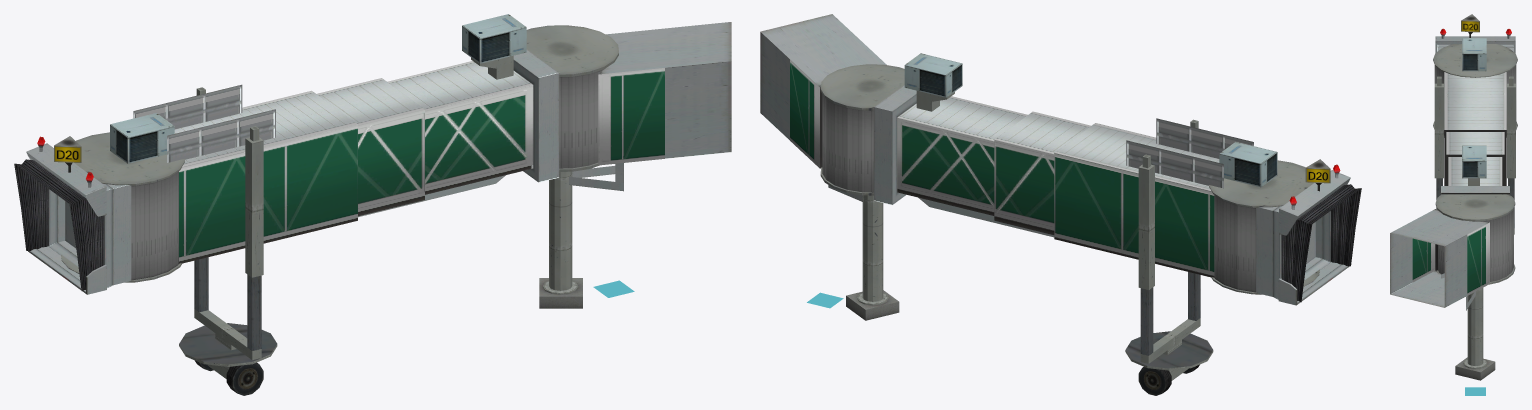
File: jetwaysSKCL_animated.gltf
The picture shows the model from 3 angles, left to right: view 1: azimuth 30°, elevation 25°; view 2: azimuth 150°, elevation 25°; view 3: azimuth 270°, elevation 25°; orthographic projection. The views are drawn at different scales.
Parts seen in each view (by area): view 1: node1; view 2: node1; view 3: node1, node2.
Boxes of the visible parts, x1,y1,x2,y2 form: node1: (14, 14, 731, 395); node1: (760, 14, 1361, 395); node1: (1390, 14, 1517, 380); node2: (1465, 387, 1485, 395).
Size of the model in its own units: 25.1 by 10.53 by 6.14.
